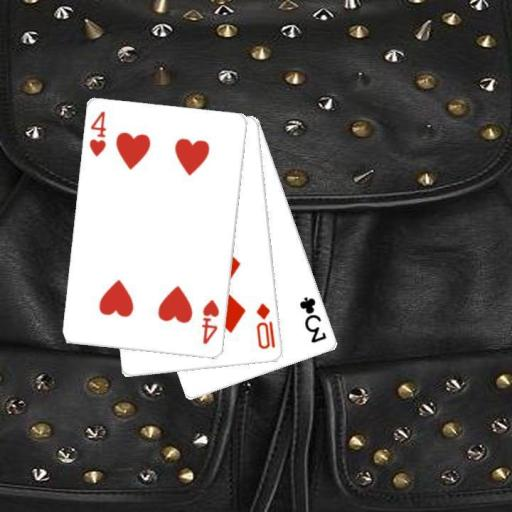card-corner: (296, 294, 328, 345), (198, 296, 222, 346), (254, 300, 277, 351), (86, 108, 109, 158)
